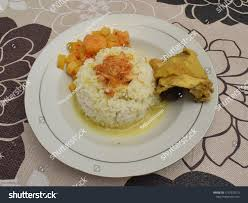Nasi putih: (72, 47, 160, 129)
Opor ayam: (153, 51, 217, 106)
